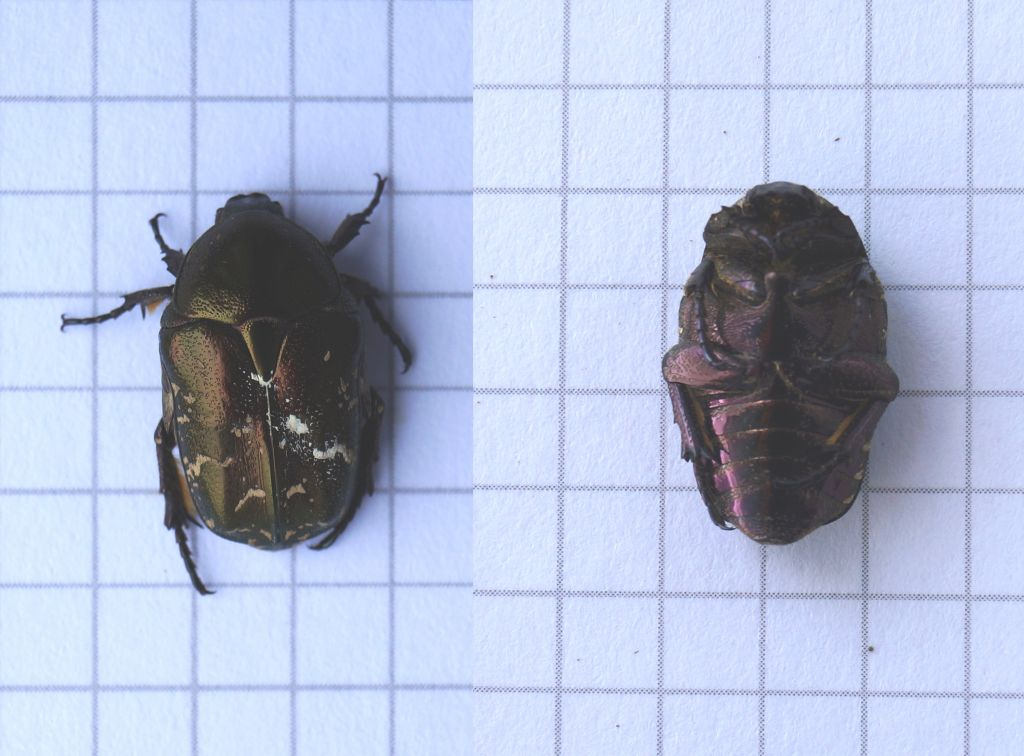Protaetia_metallica: (58, 166, 416, 604)
